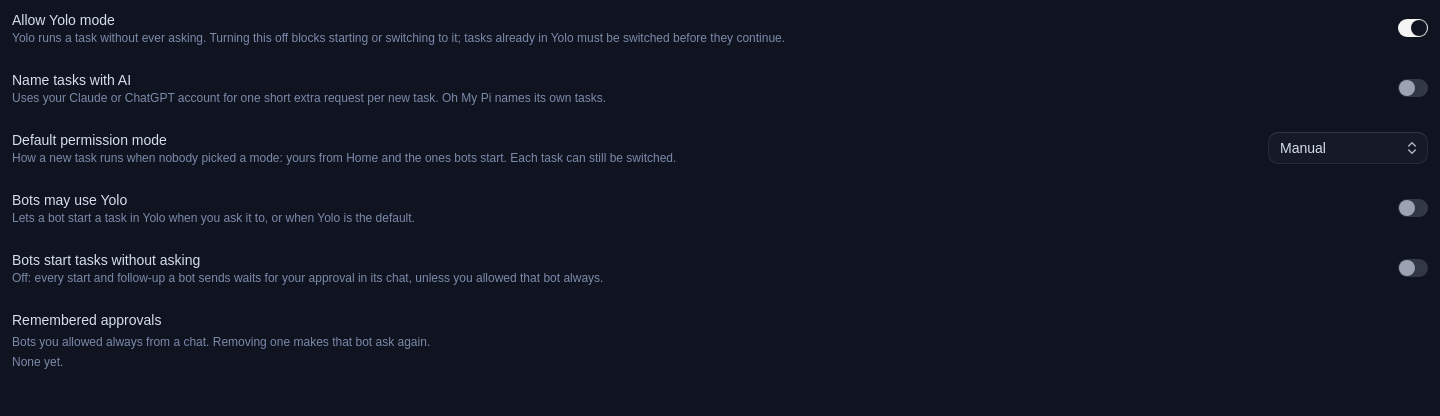
Test: keeps the AI title setting when Yolo is switched, and reports a failed save
Expected: the switch named "Name tasks with AI" is enabled, [1398,79,1428,97]
Expected: the switch named "Name tasks with AI" is not checked, [1398,79,1428,97]
What coordinates should you click on to do the following:
click the switch named "Allow Yolo mode"
I would click on:
 (1413, 28)
Its box is [1398,19,1428,37].
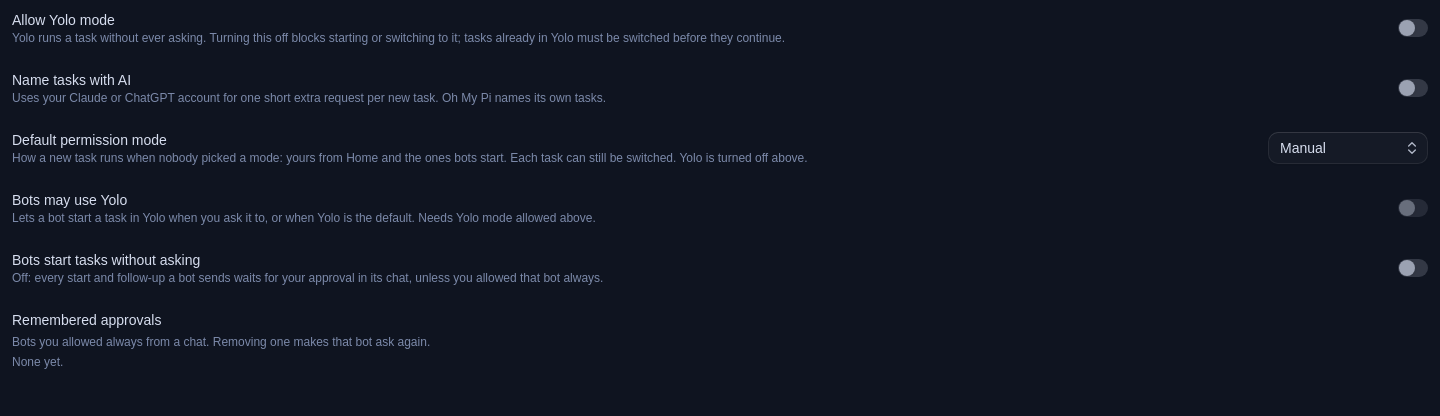
What coordinates should you click on to do the following:
click the switch named "Name tasks with AI"
I would click on:
 (1413, 88)
Its box is [1398,79,1428,97].
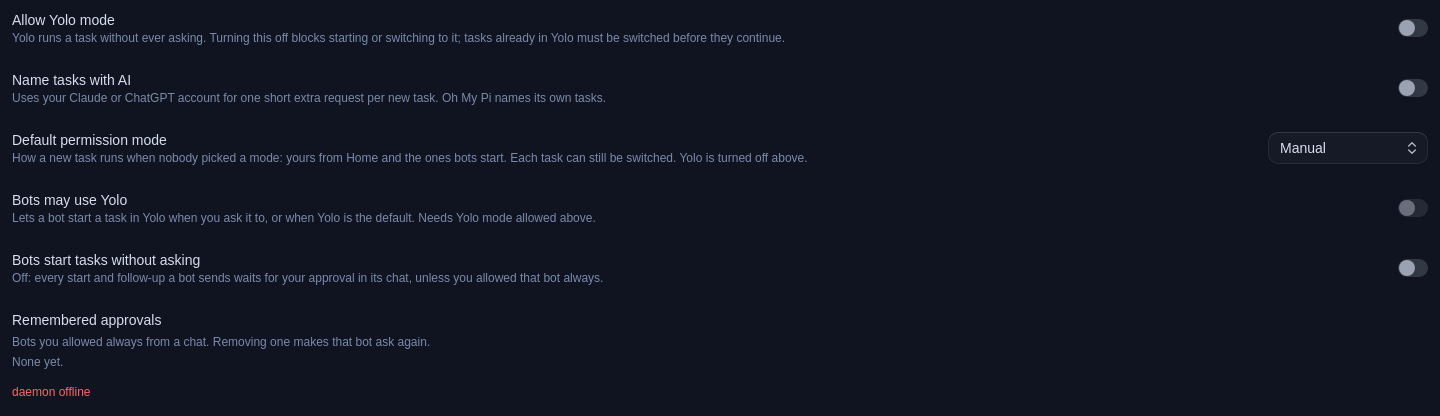
Expected: the message reads "daemon offline", [12,385,90,399]
